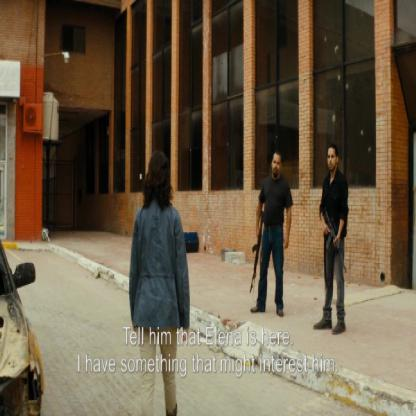Guns: (320, 201, 348, 275), (247, 200, 264, 297)
